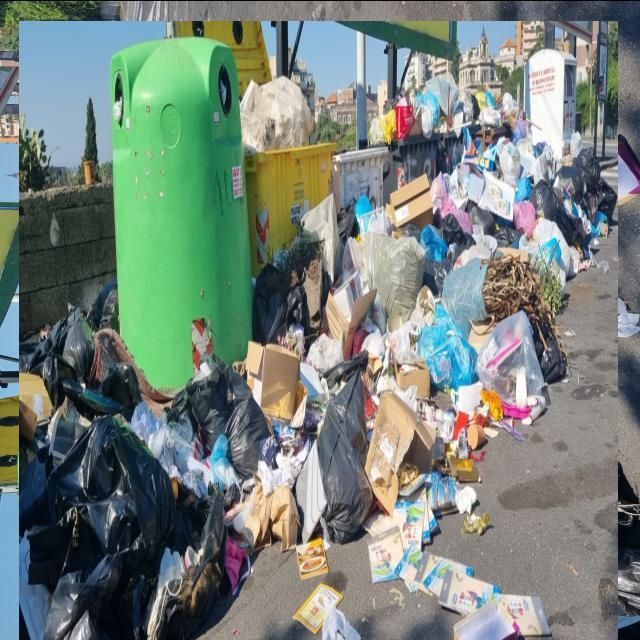Trashbag: (51, 422, 184, 580), (315, 367, 372, 540), (252, 260, 308, 339), (188, 359, 232, 447), (230, 396, 267, 478), (577, 148, 604, 189), (553, 166, 585, 200), (530, 182, 558, 218), (596, 179, 618, 219)
